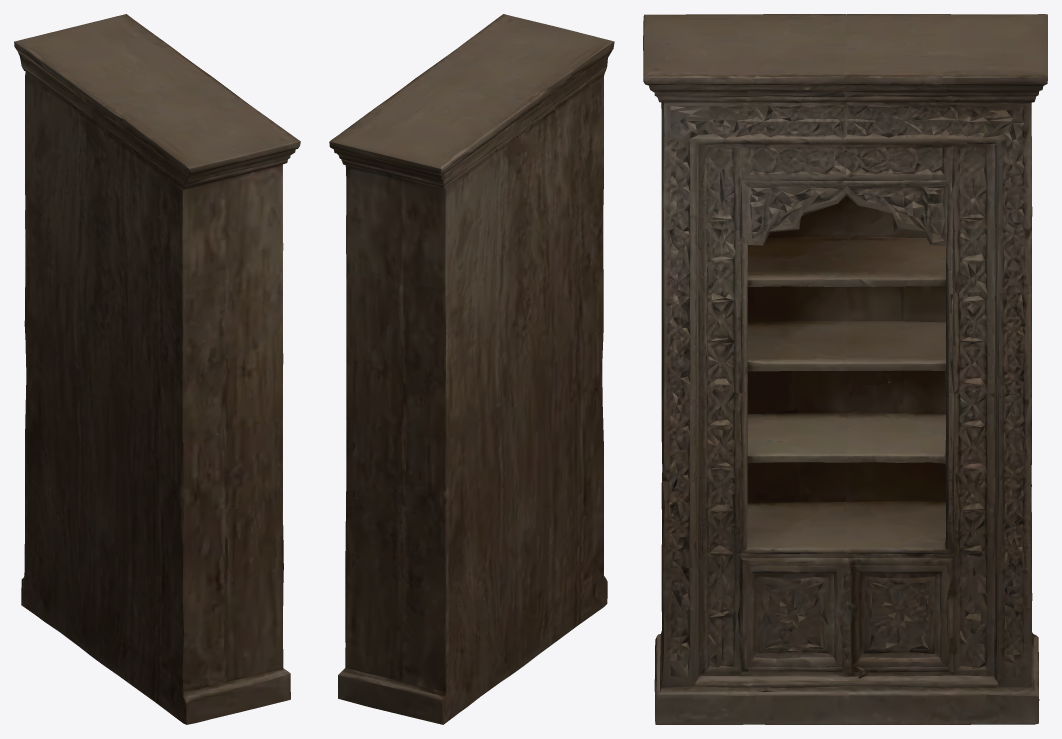
Rendered from SM_ShuJia1_92fd15.glb.
3 views of the same model, side by side, from view 1: azimuth 30°, elevation 25°; view 2: azimuth 150°, elevation 25°; view 3: azimuth 270°, elevation 25° (orthographic). The views are drawn at different scales.
Visible parts, largest first — view 1: SM_ShuJia1; view 2: SM_ShuJia1; view 3: SM_ShuJia1.
Part boxes in pixels (box(x1,y1,x2,y2)): SM_ShuJia1: box(14, 14, 300, 724); SM_ShuJia1: box(329, 14, 614, 724); SM_ShuJia1: box(643, 14, 1047, 724).
Bounding box in the file's own units: 0.5123 × 2.44 × 1.38.
Materials: 1 (1 with a texture image).
